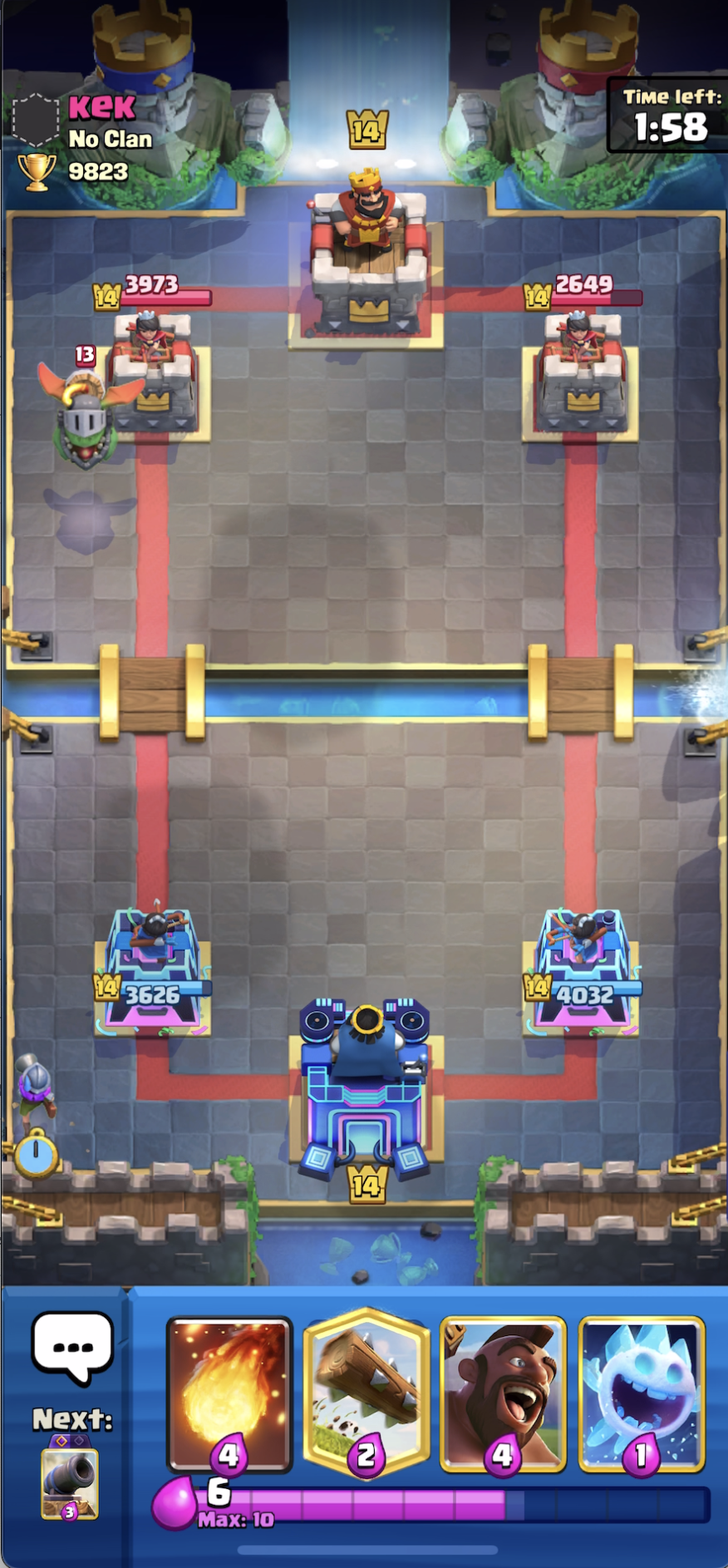musketeer: (14, 1034, 67, 1133)
